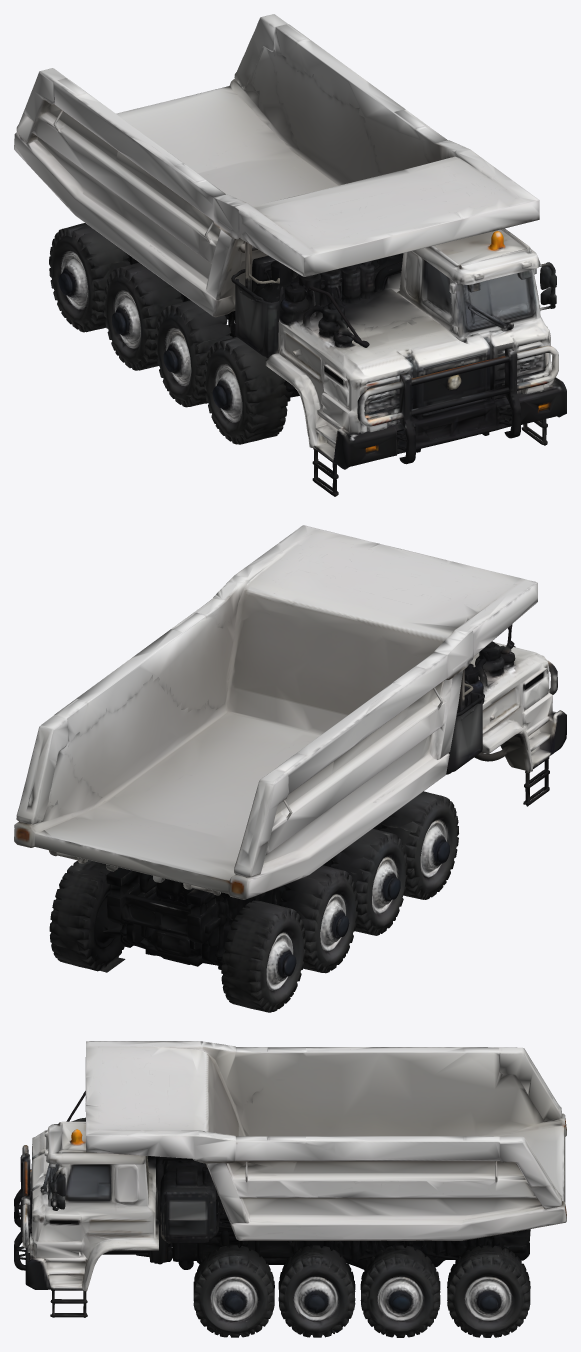
Rendered from haul-truck.glb.
3 views of the same model, one above another, from view 1: azimuth 30°, elevation 25°; view 2: azimuth 150°, elevation 25°; view 3: azimuth 270°, elevation 25° (orthographic). The views are drawn at different scales.
Parts seen in each view (by area): view 1: node_0; view 2: node_0; view 3: node_0.
Boxes of the visible parts, <box> form: node_0: <box>14,14,566,496</box>; node_0: <box>14,525,566,1012</box>; node_0: <box>14,1041,566,1337</box>.
Bounding box in the file's own units: 45.87 × 46.21 × 111.
1 material, 1 textured.
